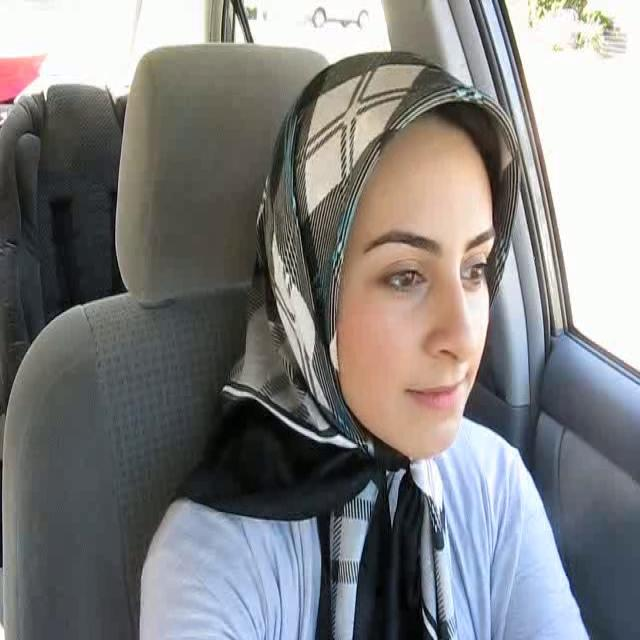close: (398, 369, 473, 412)
